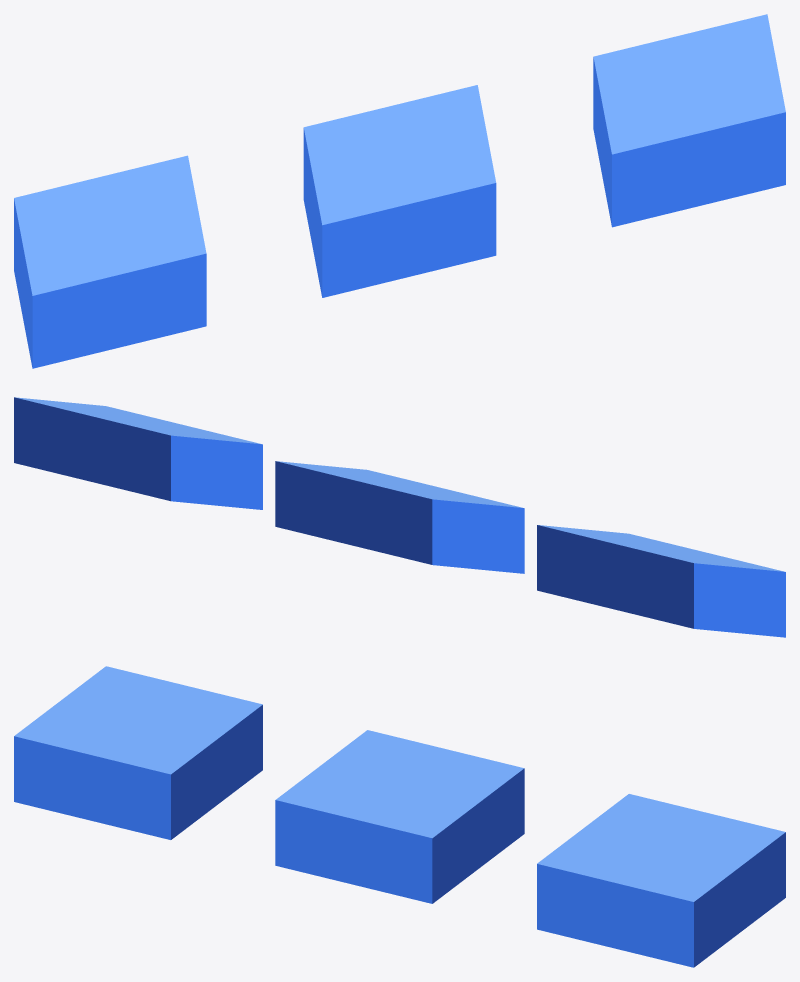
Rendered from Link_DashH.gltf.
3 renders of one model, top to bottom at view 1: azimuth 30°, elevation 25°; view 2: azimuth 150°, elevation 25°; view 3: azimuth 330°, elevation 25°, orthographic. The views are drawn at different scales.
Visible parts, largest first — view 1: Link_DashH_baked; view 2: Link_DashH_baked; view 3: Link_DashH_baked.
Part boxes in pixels (x1,y1,x2,y2): Link_DashH_baked: [14, 14, 785, 368]; Link_DashH_baked: [14, 397, 785, 637]; Link_DashH_baked: [14, 666, 785, 967].
Bounding box in the file's own units: 0.914 × 0.128 × 0.12.
